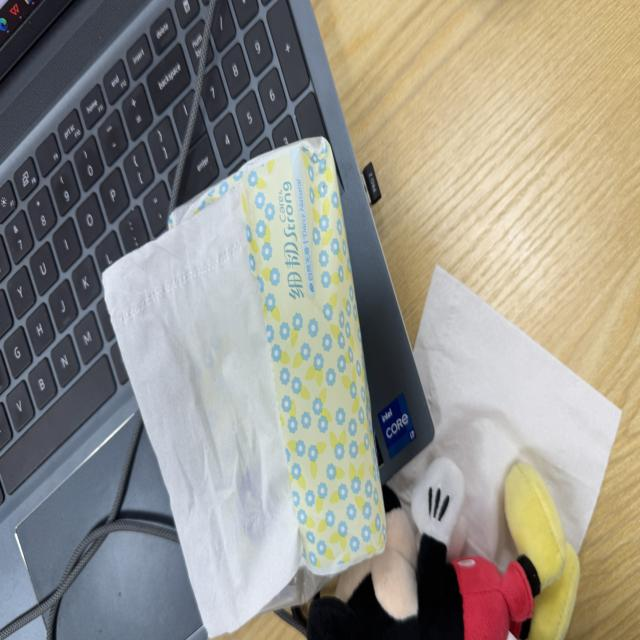mickey: (308, 459, 579, 639)
tissue: (104, 139, 385, 634), (170, 138, 385, 574), (104, 192, 302, 636), (390, 267, 620, 570)
